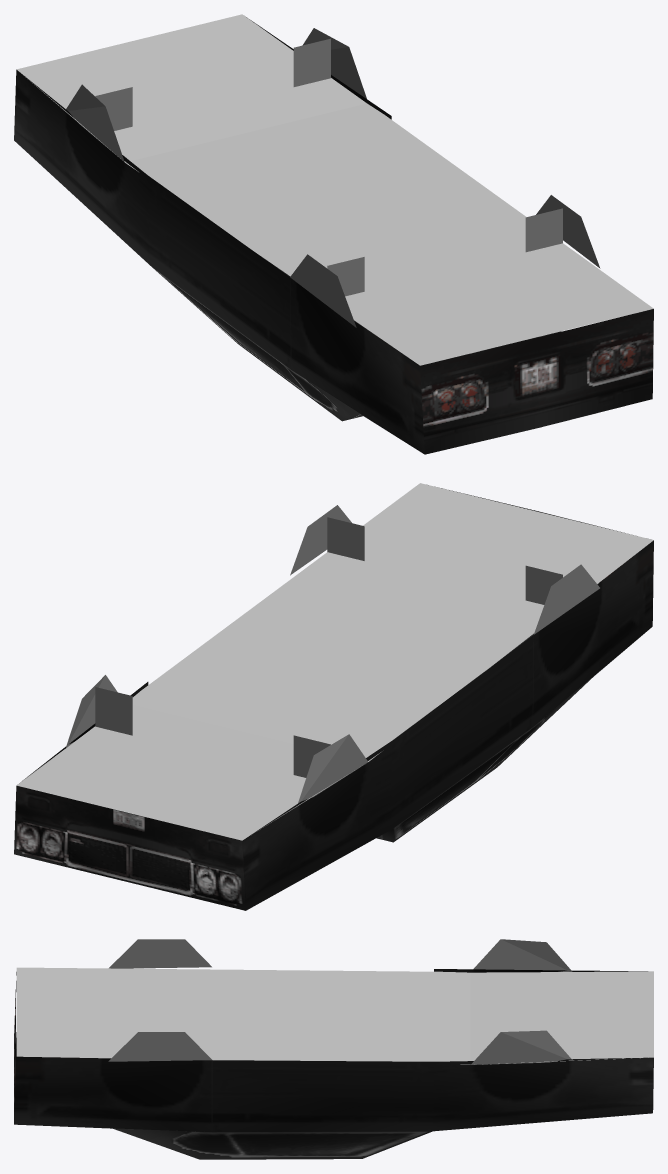
The model's file is CHICAGO_model12_low.obj.
The picture shows the model from 3 angles, top to bottom: view 1: azimuth 30°, elevation 25°; view 2: azimuth 150°, elevation 25°; view 3: azimuth 270°, elevation 25°; orthographic projection. The views are drawn at different scales.
Parts seen in each view (by area): view 1: CHICAGO_model12_low; view 2: CHICAGO_model12_low; view 3: CHICAGO_model12_low.
Part boxes in pixels (x1,y1,x2,y2): CHICAGO_model12_low: [14, 14, 653, 454]; CHICAGO_model12_low: [14, 483, 653, 910]; CHICAGO_model12_low: [14, 939, 653, 1159].
Bounding box in the file's own units: 248 × 180 × 722.
14 materials, 12 textured.
